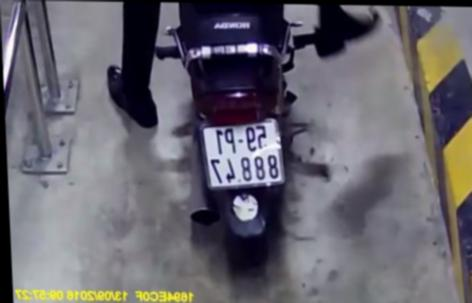License_Plate: (196, 114, 288, 197)
